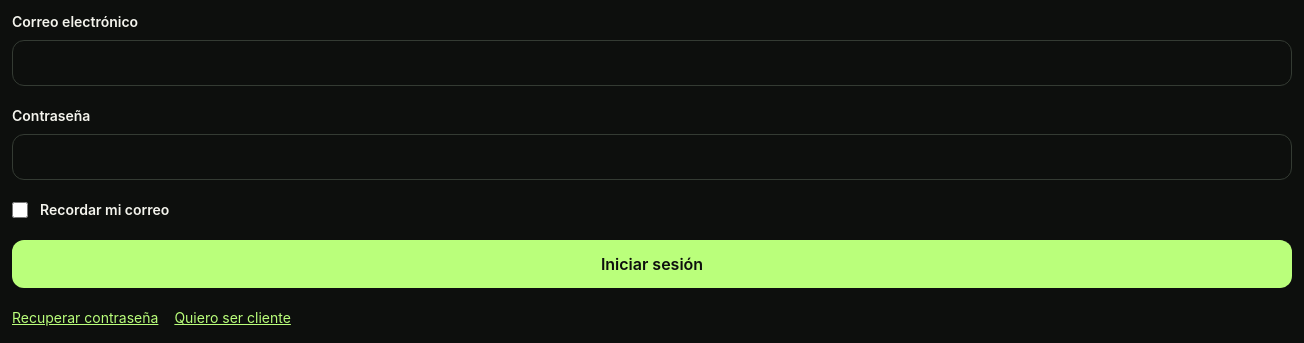
SignInForm biometric offer › clears the enrollment of a different user and offers activation again
Step 1. Type "ana@example.com" into the field labelled "Correo electrónico" → (652, 63), box [12, 40, 1292, 86]
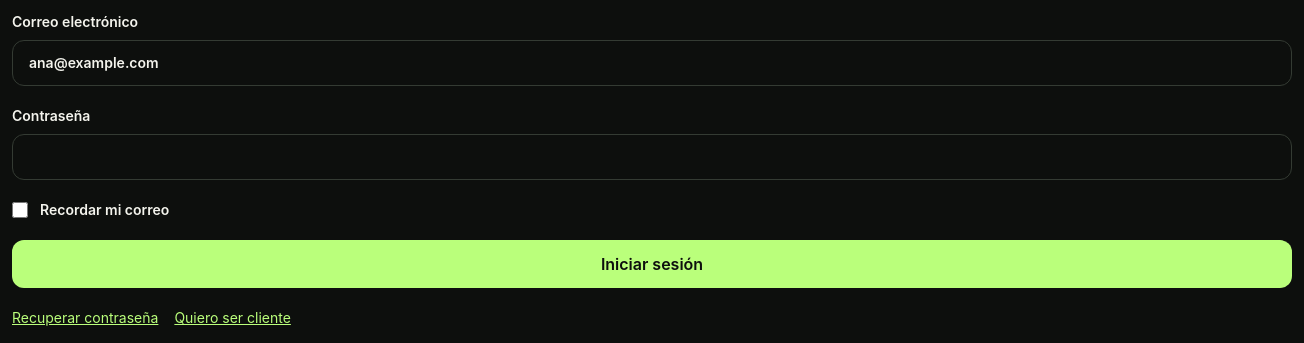
Step 2. Type "segura123" into the password field labelled "Contraseña" → (652, 157), box [12, 134, 1292, 180]
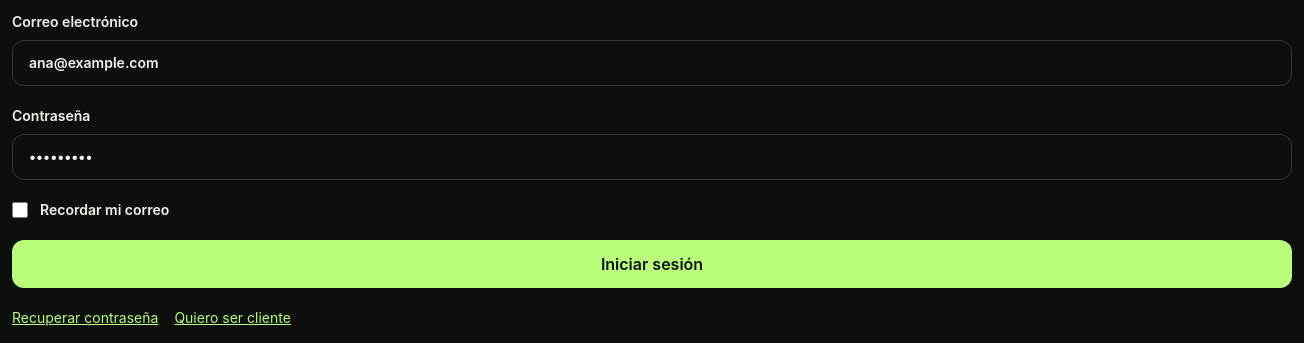
Step 3. Click the button "Iniciar sesión" → (652, 264), box [12, 240, 1292, 288]
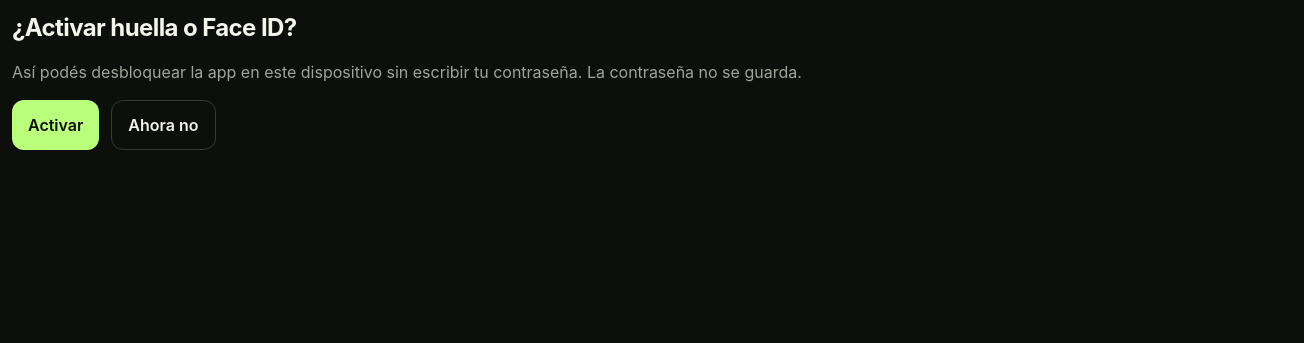
expect the heading "¿Activar huella o Face ID?" is shown: met, box [12, 13, 297, 42]
